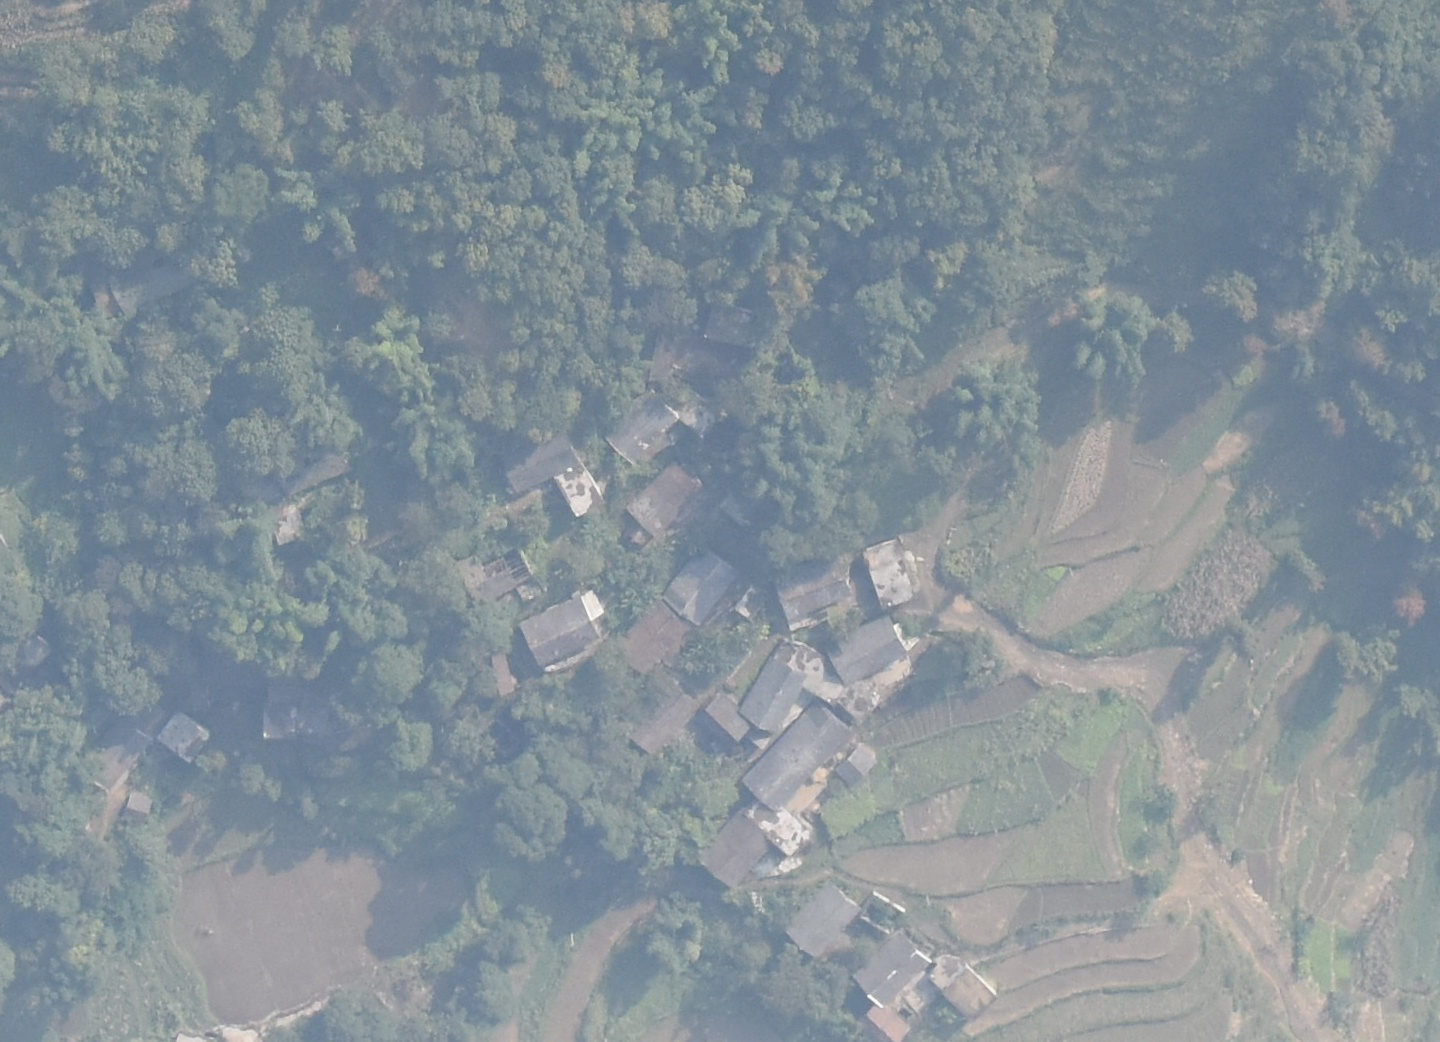building: (737, 698, 858, 809), (612, 462, 706, 537), (593, 391, 690, 463), (517, 592, 595, 669), (783, 885, 864, 959), (665, 547, 738, 629), (849, 930, 931, 1003), (627, 683, 700, 765), (822, 614, 908, 683), (616, 603, 695, 677), (774, 563, 856, 630), (737, 659, 811, 733), (696, 811, 770, 885), (862, 539, 930, 608), (494, 443, 585, 493), (260, 676, 325, 745), (941, 961, 998, 1026), (157, 710, 215, 765), (692, 694, 749, 746), (854, 1008, 918, 1042), (481, 652, 519, 703), (266, 505, 308, 548), (837, 745, 876, 790), (460, 572, 521, 600), (122, 790, 156, 821)
